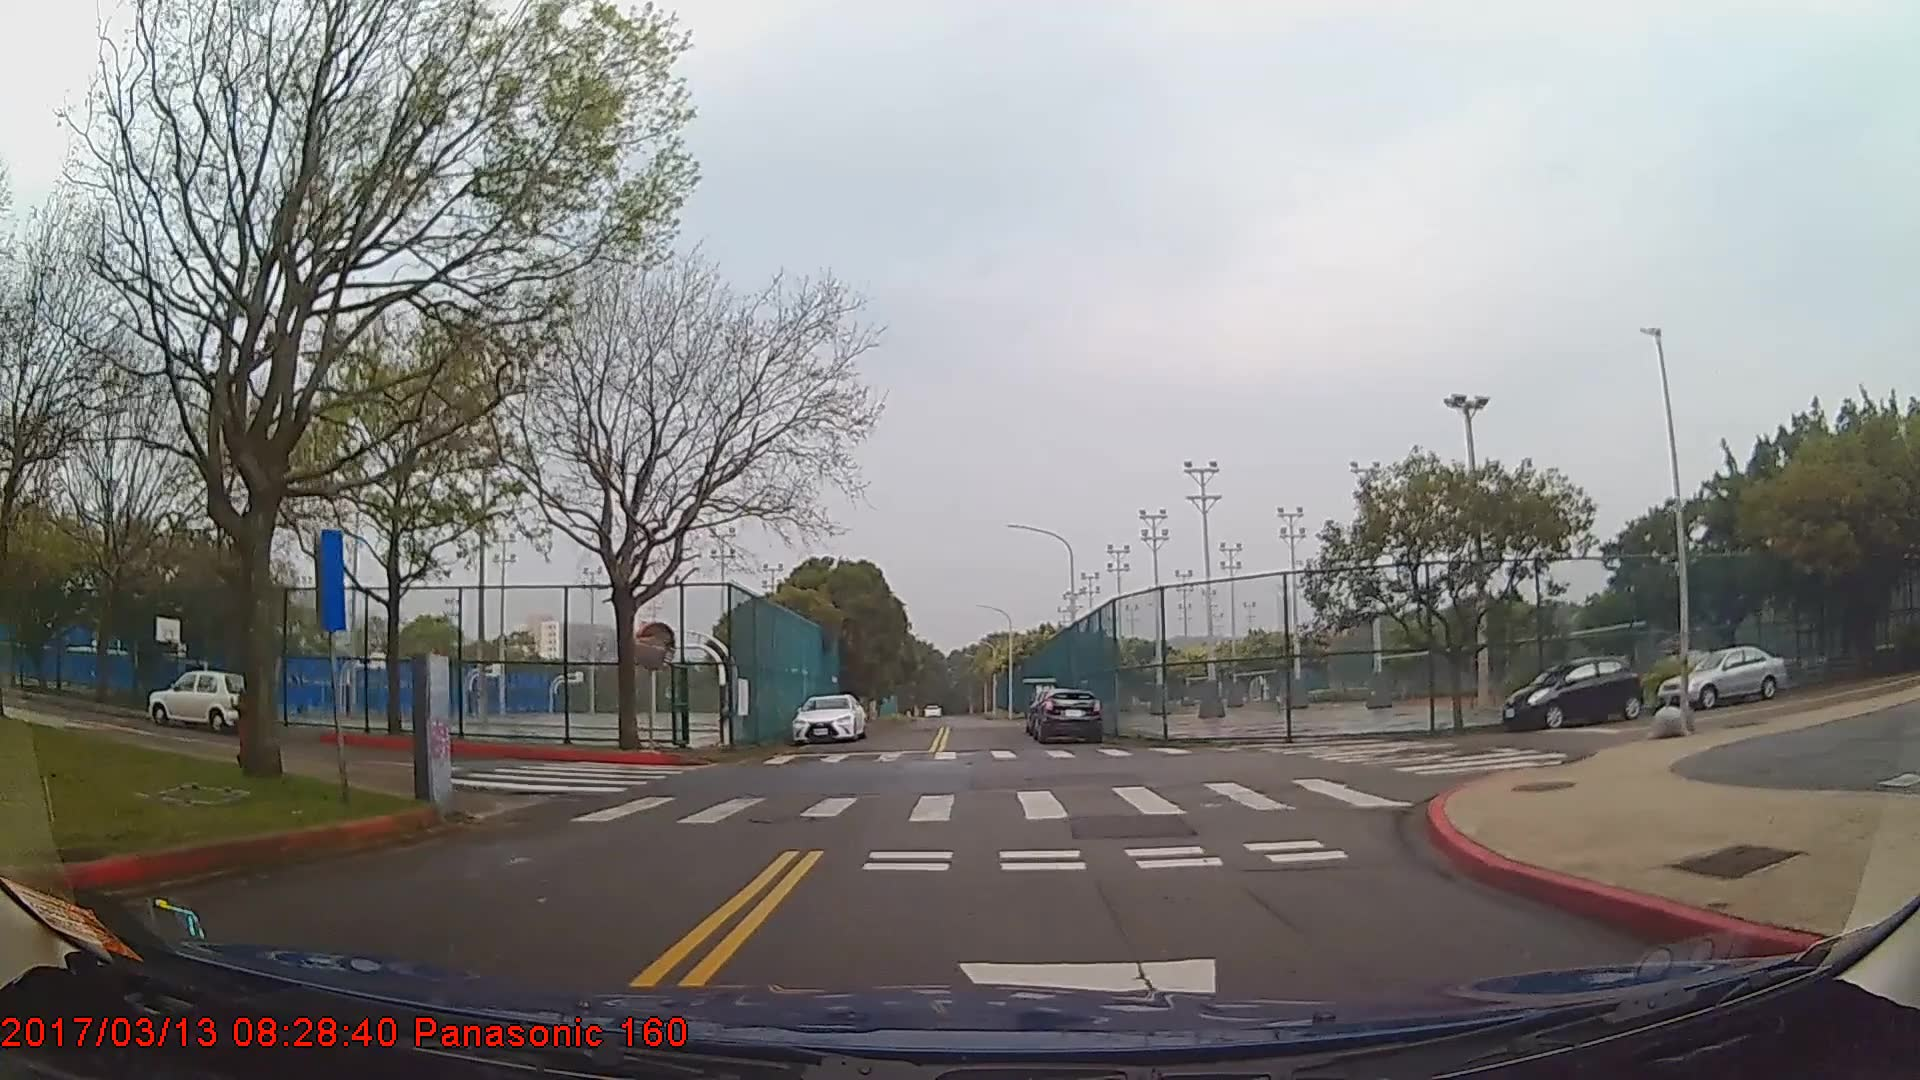vehicle: (1501, 654, 1642, 728), (1656, 644, 1788, 711), (145, 665, 257, 729), (1029, 687, 1101, 745), (790, 691, 865, 742)
